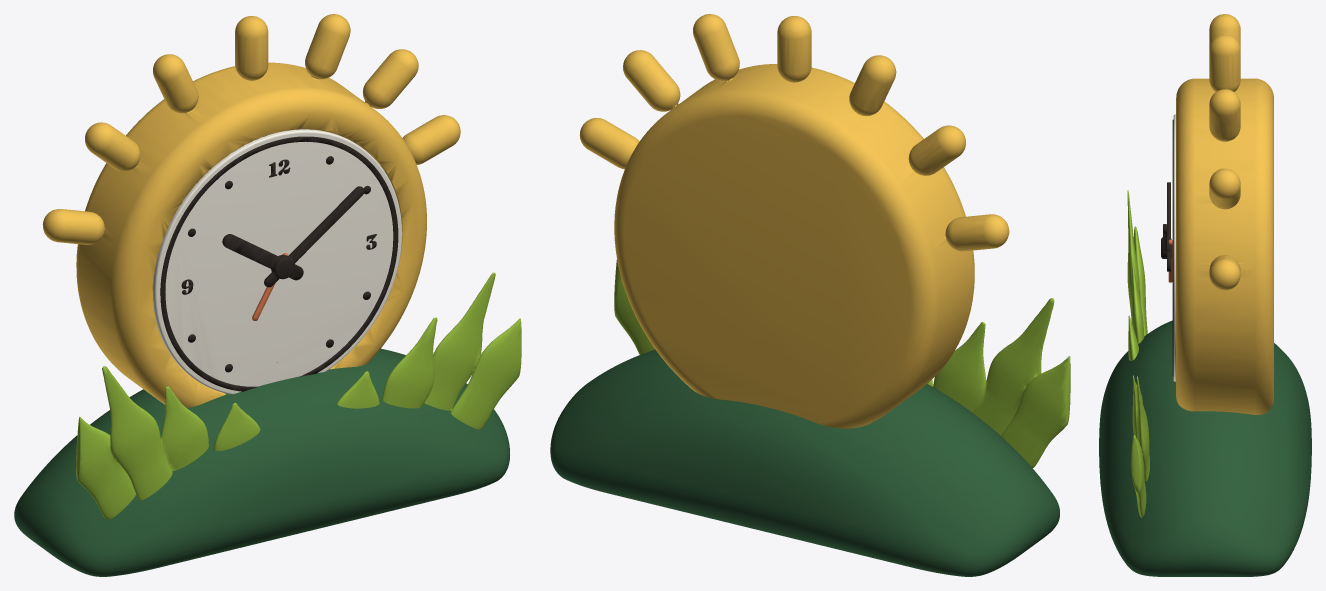
The model's file is sunup.glb.
The picture shows the model from 3 angles, left to right: view 1: azimuth 30°, elevation 25°; view 2: azimuth 150°, elevation 25°; view 3: azimuth 270°, elevation 25°; orthographic projection. The views are drawn at different scales.
Parts seen in each view (by area): view 1: sunup-hill; view 2: sunup-hill; view 3: sunup-hill.
Part boxes in pixels (x1,y1,x2,y2): sunup-hill: (14, 14, 521, 576); sunup-hill: (550, 14, 1070, 576); sunup-hill: (1099, 14, 1311, 576).
Bounding box in the file's own units: 0.1521 × 0.1513 × 0.0653.
Materials: 1 (1 with a texture image).
